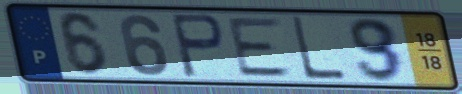6: (57, 10, 111, 78), (116, 12, 170, 78)
9: (346, 16, 409, 84)
E: (225, 16, 297, 79)
L: (287, 15, 349, 83)
P: (167, 12, 228, 81)
